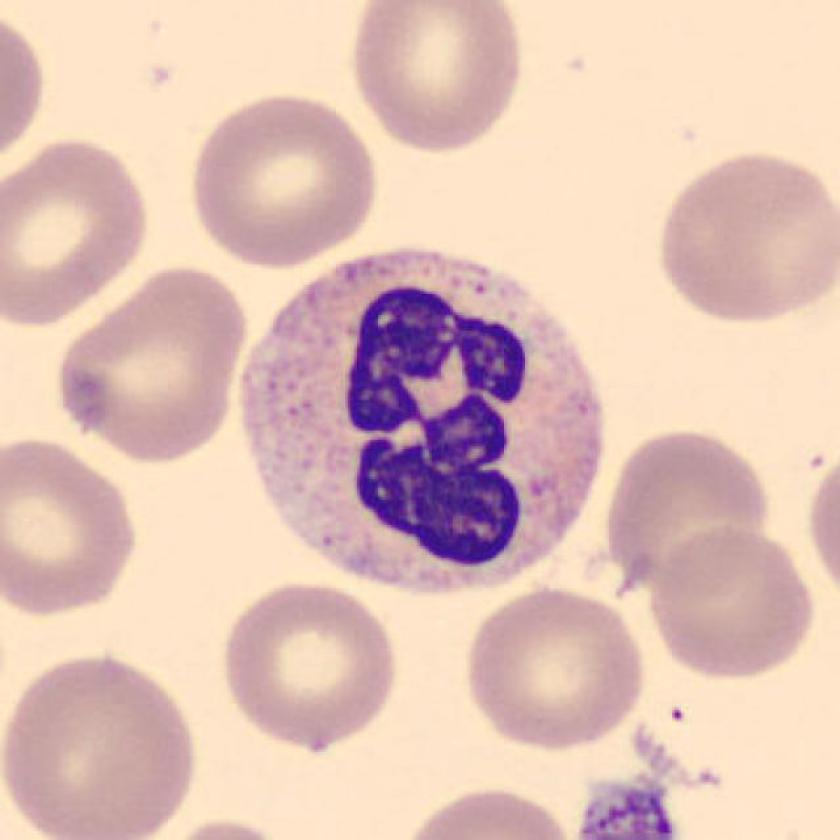neutrophil: (235, 248, 604, 590)
